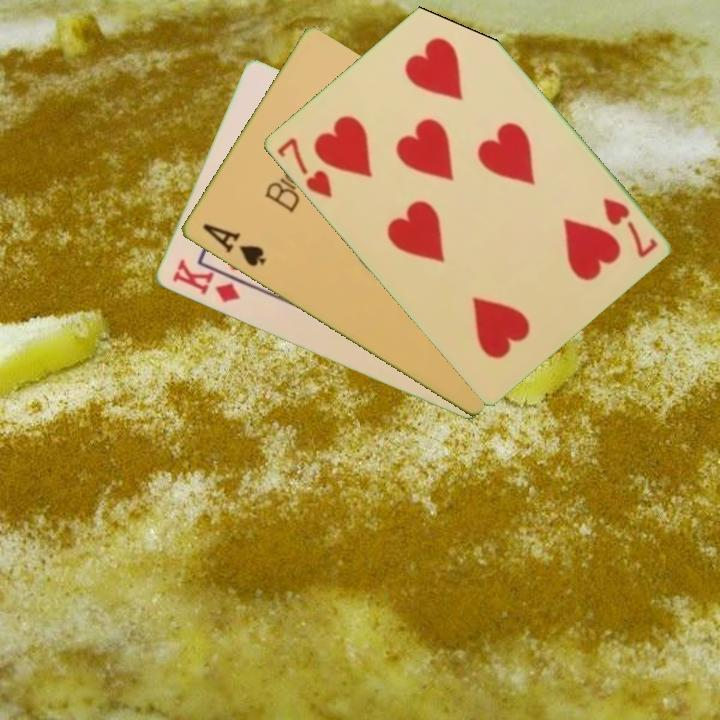7h: (273, 133, 335, 201), (598, 194, 660, 261)
As: (198, 219, 269, 270)
Kd: (168, 255, 243, 306)
